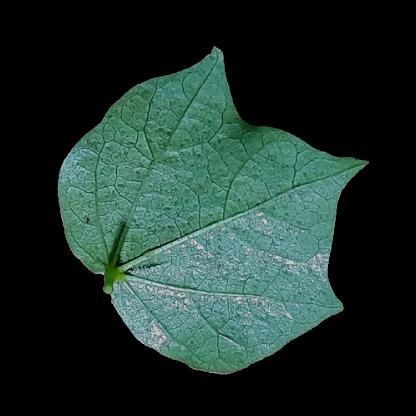healthy: (121, 153, 305, 289), (148, 288, 287, 362), (132, 88, 224, 162), (70, 153, 130, 255)
